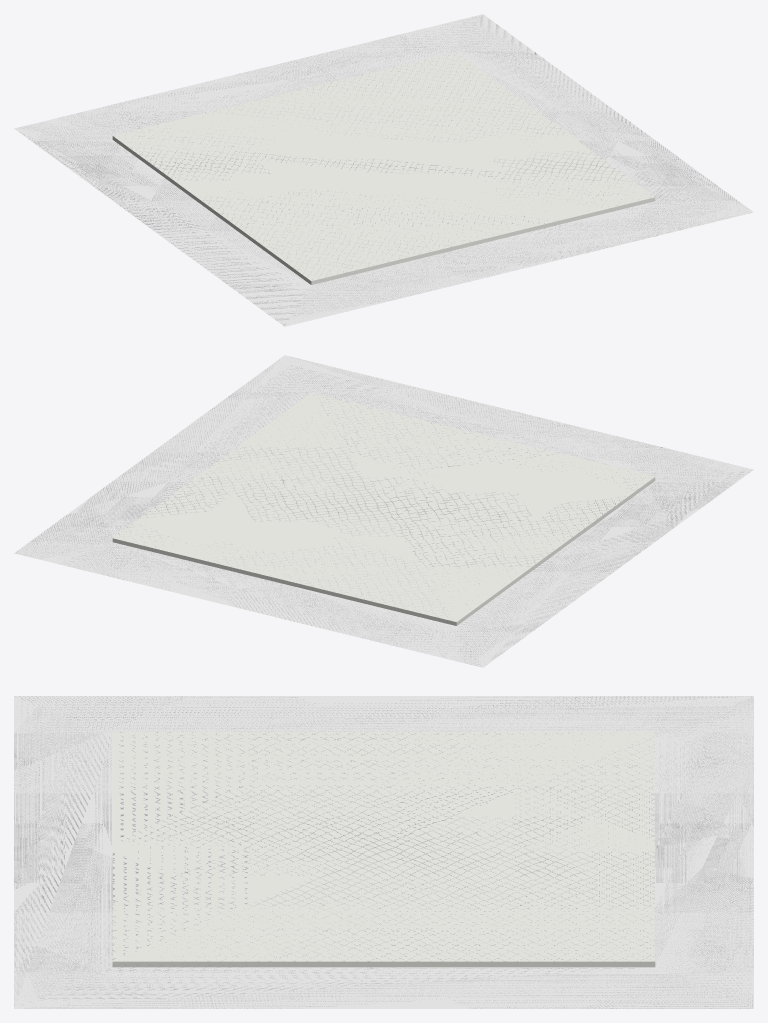
Rendered from modern-ceiling.glb.
3 renders of one model, top to bottom at view 1: azimuth 30°, elevation 25°; view 2: azimuth 150°, elevation 25°; view 3: azimuth 270°, elevation 25°, orthographic. The views are drawn at different scales.
Visible parts, largest first — view 1: SketchUp.001, SketchUp.002, SketchUp.003, SketchUp; view 2: SketchUp.001, SketchUp.002, SketchUp; view 3: SketchUp.001, SketchUp.002, SketchUp.
Boxes of the visible parts, left/top/right/bottom form: SketchUp.001: left=113, top=52, right=654, bottom=280; SketchUp.002: left=14, top=14, right=753, bottom=326; SketchUp.003: left=311, top=197, right=655, bottom=284; SketchUp: left=112, top=136, right=311, bottom=284; SketchUp.001: left=113, top=393, right=654, bottom=621; SketchUp.002: left=14, top=355, right=753, bottom=667; SketchUp: left=112, top=477, right=655, bottom=625; SketchUp.001: left=112, top=732, right=655, bottom=961; SketchUp.002: left=14, top=696, right=753, bottom=1008; SketchUp: left=112, top=961, right=655, bottom=967.
Bounding box in the file's own units: 4.57 × 0.0365 × 4.57.
5 materials, 2 textured.
